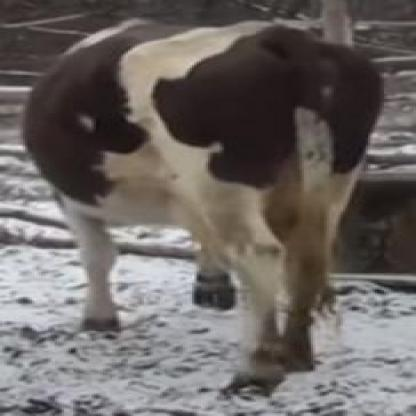cow: (23, 22, 388, 398)
